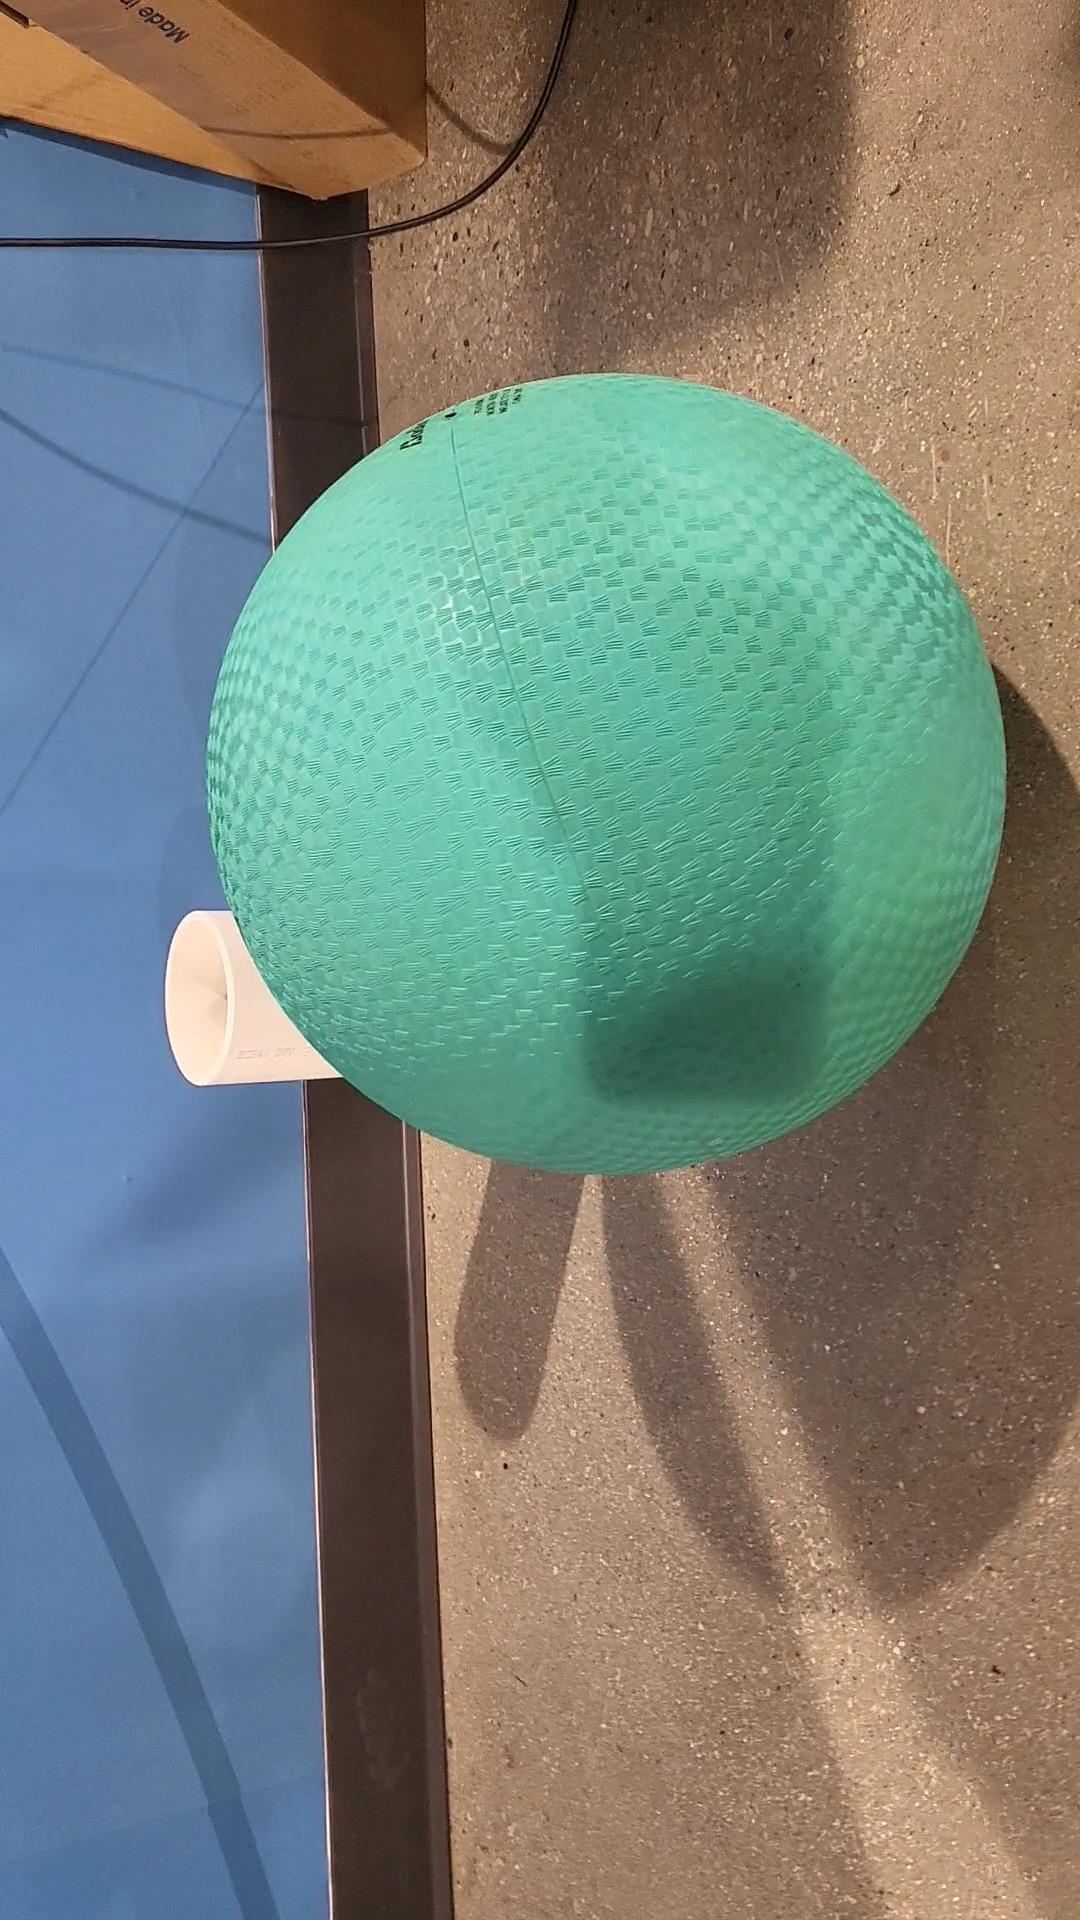algae: (210, 368, 1005, 1183)
coral: (165, 905, 357, 1085)
